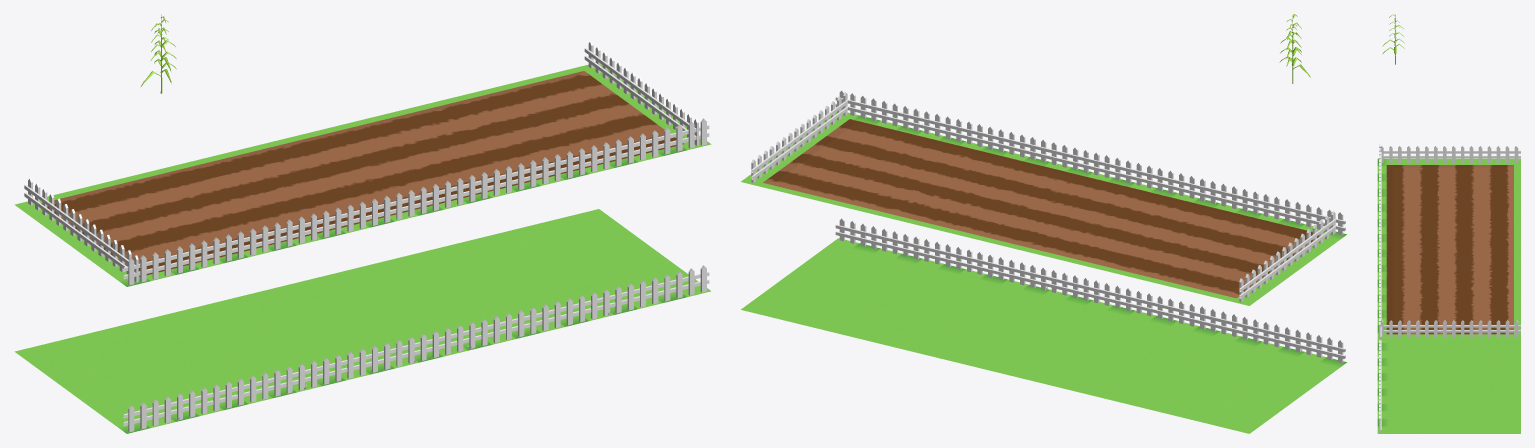
Rendered from fieldgrass.glb.
The picture shows the model from 3 angles, left to right: view 1: azimuth 30°, elevation 25°; view 2: azimuth 150°, elevation 25°; view 3: azimuth 270°, elevation 25°; orthographic projection. The views are drawn at different scales.
Parts seen in each view (by area): view 1: grass1, grass0; view 2: grass1, grass0; view 3: grass1, grass0, corn.
Part boxes in pixels (x1,y1,x2,y2): grass1: (14,41,711,286); grass0: (14,209,710,433); grass1: (741,90,1346,305); grass0: (741,217,1346,433); grass1: (1377,144,1520,340); grass0: (1377,305,1520,433); corn: (1382,14,1404,64).
Size of the model in its own units: 48 by 31.2 by 16.16.
5 materials, 2 textured.
